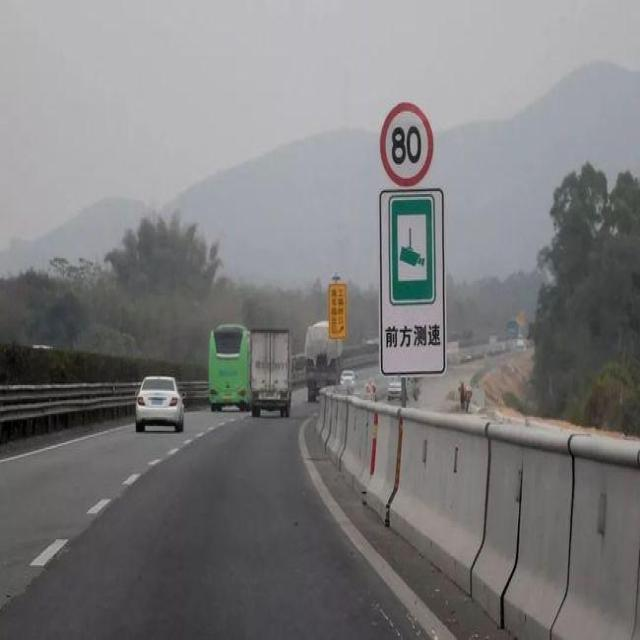speed limit 80: (379, 102, 435, 186)
